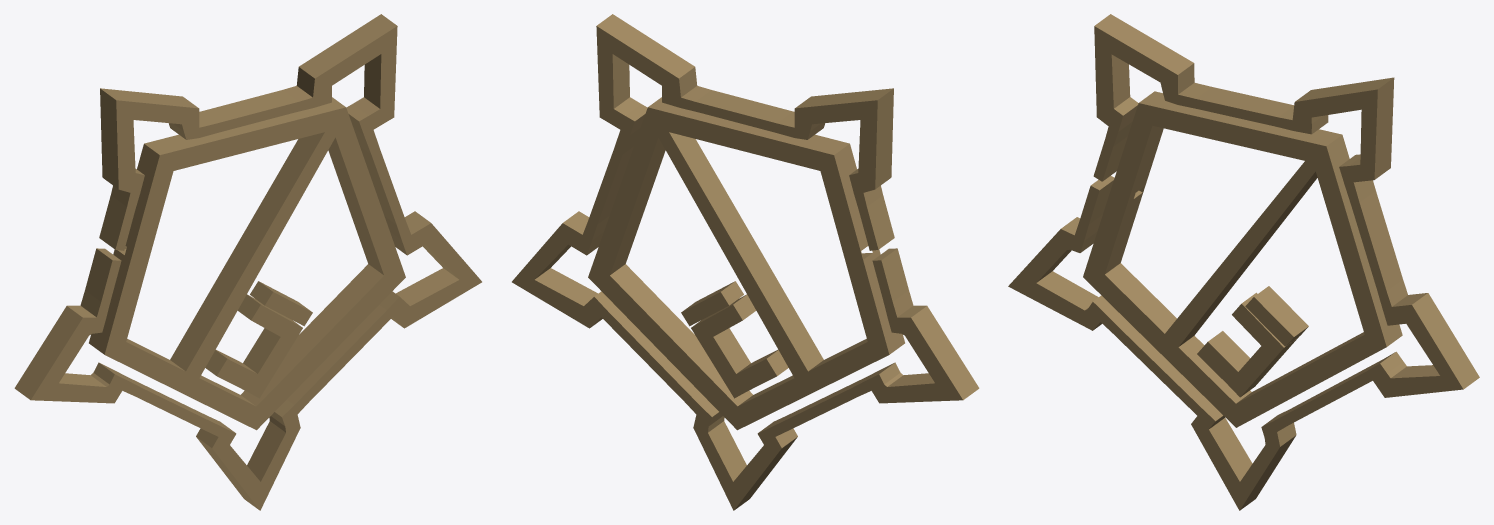
Rendered from castle.glb.
The picture shows the model from 3 angles, left to right: view 1: azimuth 30°, elevation 25°; view 2: azimuth 150°, elevation 25°; view 3: azimuth 330°, elevation 25°; orthographic projection.
Parts seen in each view (by area): view 1: Outerwall; view 2: Outerwall; view 3: Outerwall.
Part boxes in pixels (x1,y1,x2,y2): Outerwall: [14, 14, 481, 510]; Outerwall: [512, 14, 979, 510]; Outerwall: [1008, 14, 1479, 510].
Size of the model in its own units: 9.3 by 8.88 by 0.5796.
